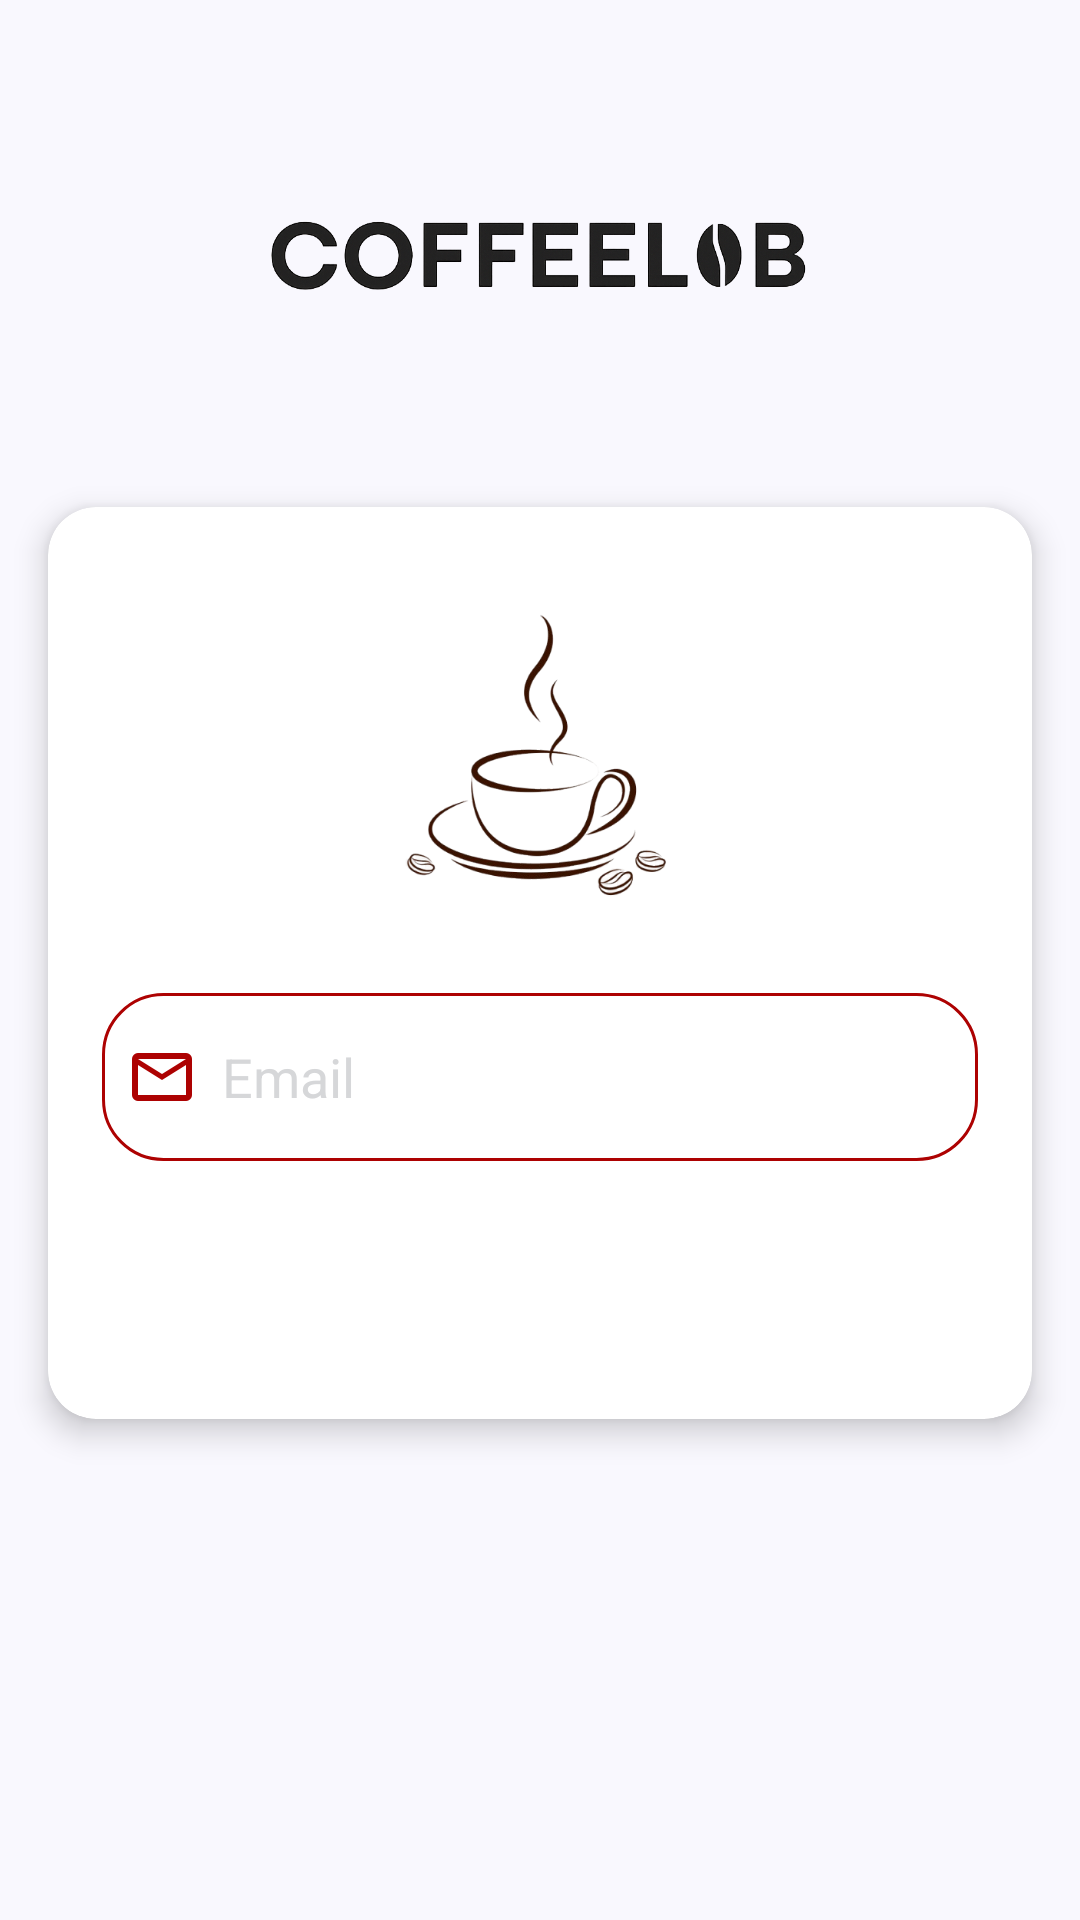

Icons on this 1080 × 1920 Android screen, each with the point to tap as point (x, y):
coffee cup: point (536, 755)
